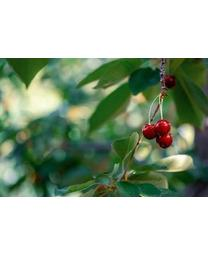cherry: (156, 133, 173, 147), (143, 124, 156, 139), (156, 120, 169, 135)
